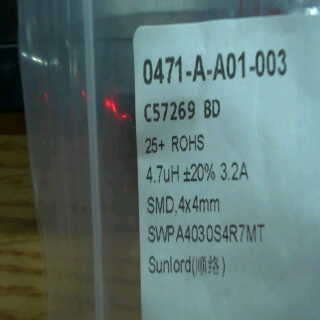4.7uH: (140, 157, 182, 188)
